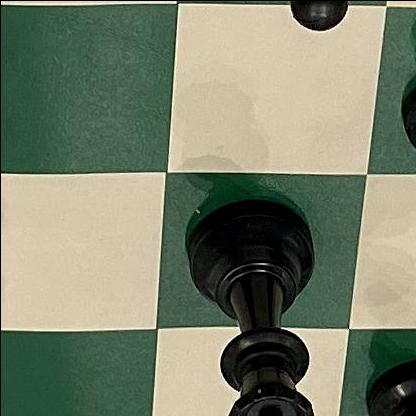black-pawn: (233, 0, 368, 41), (385, 56, 416, 231)
black-queen: (181, 186, 330, 416)
